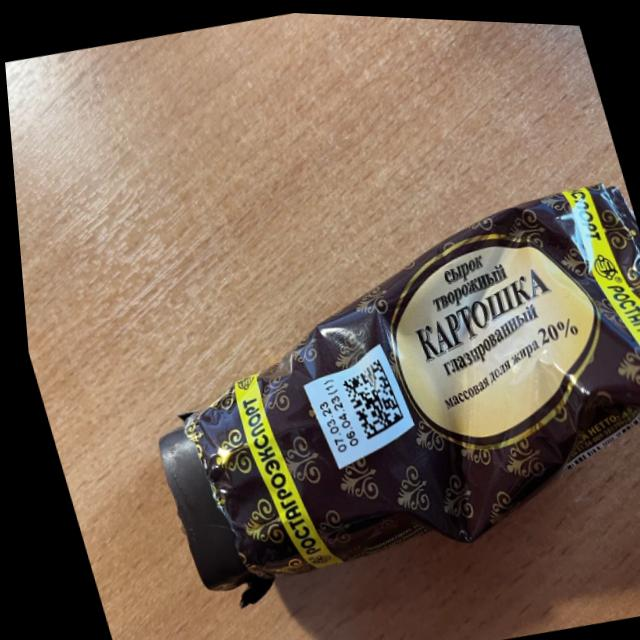datamatrix: (329, 350, 402, 439)
